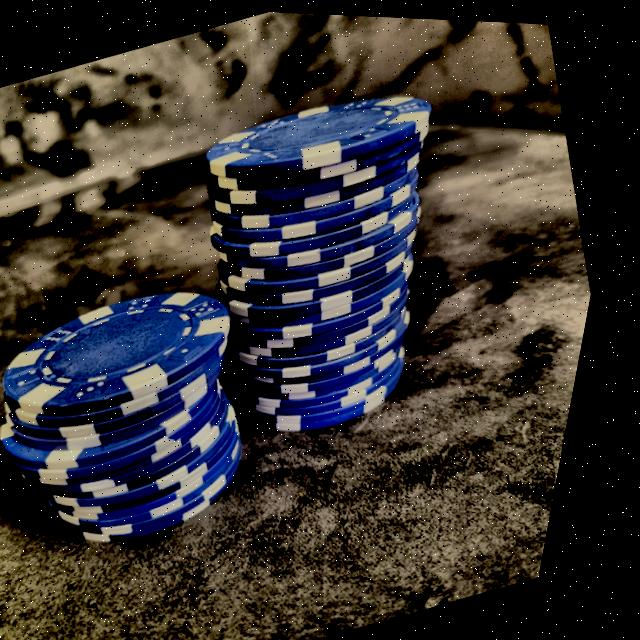Chip: (141, 62, 534, 456), (0, 251, 329, 583)
